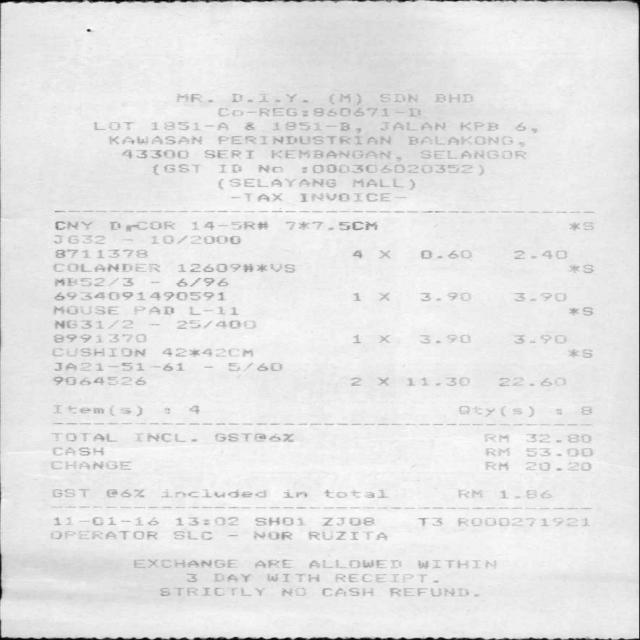text: (213, 106, 423, 118), (207, 134, 393, 146), (307, 163, 472, 175), (52, 292, 228, 302), (269, 148, 391, 160), (407, 149, 528, 161), (179, 262, 297, 274), (46, 248, 154, 261), (456, 517, 594, 527), (53, 362, 186, 372), (48, 529, 158, 541), (52, 403, 146, 417), (402, 135, 516, 146), (279, 220, 381, 232), (228, 177, 338, 188), (159, 488, 268, 499), (295, 192, 394, 204), (53, 262, 161, 273), (111, 146, 193, 160), (454, 404, 536, 418), (132, 558, 236, 569), (105, 134, 206, 145), (154, 586, 263, 596), (50, 347, 146, 358), (51, 516, 156, 526), (173, 317, 260, 329), (148, 119, 228, 132), (51, 333, 155, 343), (161, 347, 255, 358), (49, 318, 135, 330), (266, 120, 351, 132), (150, 234, 242, 245), (45, 277, 136, 288), (47, 461, 130, 473), (48, 376, 147, 386), (307, 559, 403, 569), (388, 587, 472, 598), (186, 220, 269, 231), (413, 559, 500, 569), (304, 531, 389, 541), (228, 92, 298, 104), (213, 432, 297, 442), (106, 220, 180, 231), (50, 232, 111, 245), (167, 276, 228, 289), (492, 376, 564, 387), (47, 305, 118, 316), (525, 447, 596, 458), (333, 574, 429, 582), (377, 121, 446, 132), (524, 432, 592, 443), (51, 432, 118, 443), (523, 461, 590, 472), (506, 292, 572, 303), (174, 515, 239, 526), (402, 376, 473, 386), (416, 248, 474, 260), (182, 305, 243, 316), (321, 488, 387, 498), (130, 432, 187, 443), (48, 445, 105, 456), (510, 250, 572, 260), (201, 149, 256, 160), (412, 334, 471, 344), (317, 516, 376, 526), (349, 178, 402, 189), (508, 334, 566, 344), (496, 489, 554, 499), (252, 516, 304, 527), (226, 362, 283, 372), (128, 304, 175, 316), (319, 587, 375, 597), (161, 162, 202, 175), (416, 292, 469, 302), (266, 573, 320, 582), (169, 530, 213, 541), (426, 94, 474, 104), (566, 346, 598, 361), (240, 192, 283, 203), (87, 120, 134, 130), (52, 220, 94, 231), (103, 488, 145, 499), (380, 92, 417, 104), (458, 121, 498, 132), (249, 530, 293, 540), (251, 558, 293, 568), (212, 572, 252, 582), (170, 93, 206, 104), (326, 92, 356, 105), (51, 488, 89, 498), (215, 162, 244, 175), (258, 162, 286, 175), (370, 248, 397, 261), (568, 263, 595, 276), (482, 431, 510, 443), (480, 460, 510, 471), (279, 586, 305, 598), (566, 307, 600, 316), (455, 488, 482, 499), (482, 446, 510, 456), (414, 517, 442, 527), (568, 221, 594, 231), (512, 121, 533, 133), (282, 488, 307, 498), (373, 376, 391, 387), (347, 247, 361, 260), (374, 334, 391, 344), (577, 406, 594, 416), (377, 291, 392, 302), (188, 404, 200, 416), (183, 574, 198, 583), (348, 377, 362, 386), (350, 292, 362, 302), (352, 333, 362, 343)
